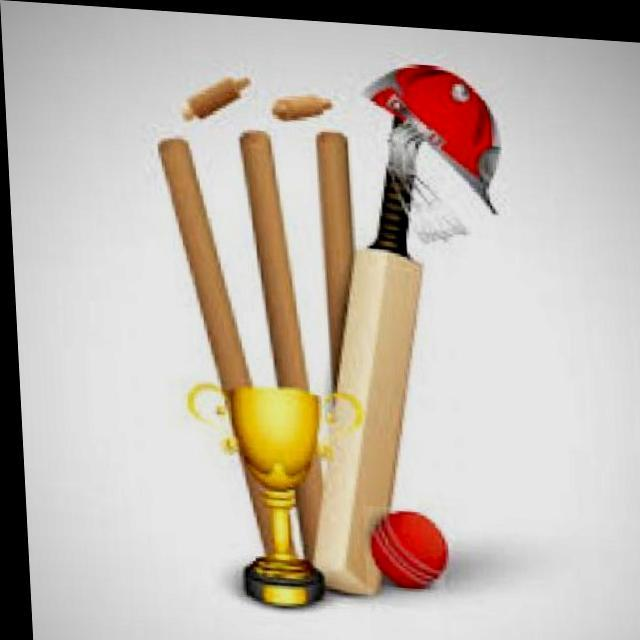-: (358, 501, 440, 599)
